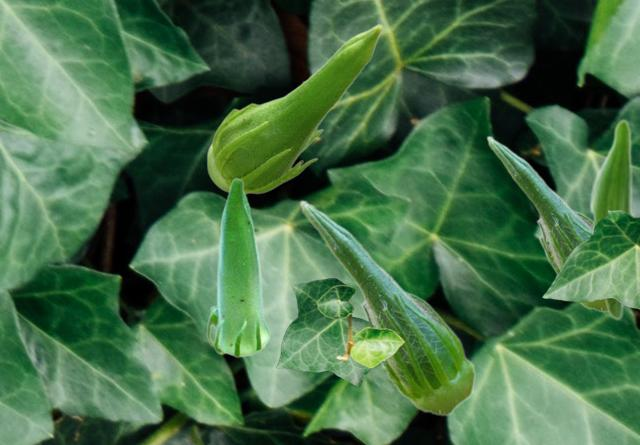okra: (299, 199, 475, 415), (206, 23, 383, 194), (486, 135, 605, 311), (206, 177, 270, 357), (586, 118, 633, 320)
